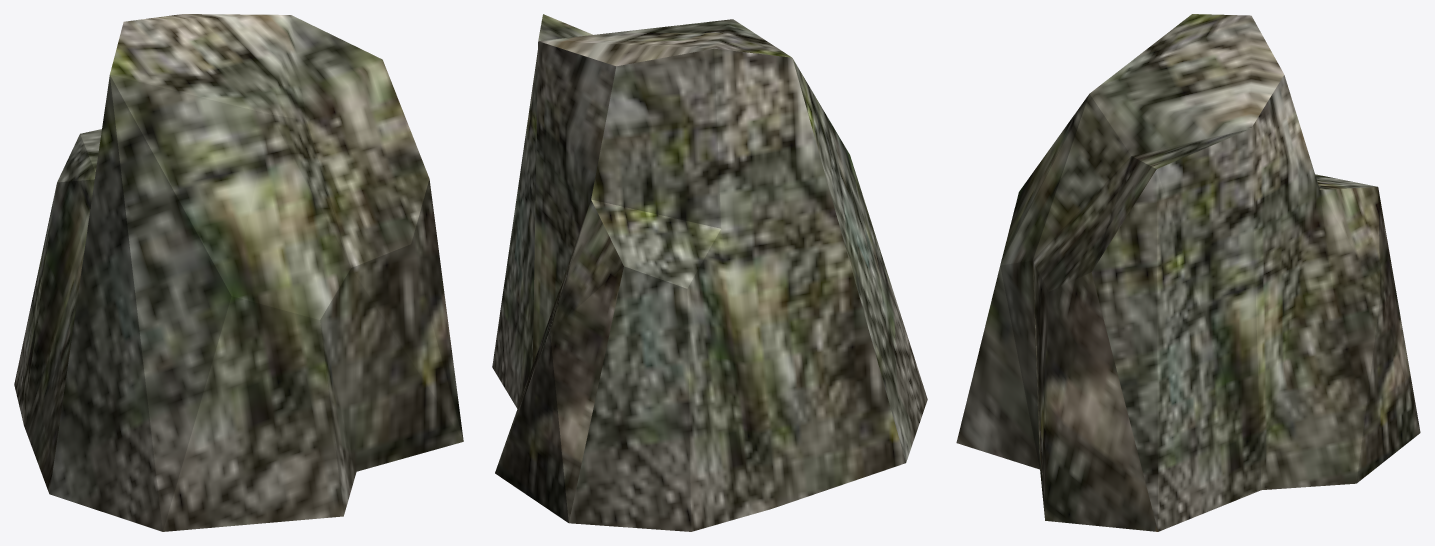
3 views of the same model, side by side, from view 1: azimuth 30°, elevation 25°; view 2: azimuth 150°, elevation 25°; view 3: azimuth 270°, elevation 25° (orthographic). The views are drawn at different scales.
Visible parts, largest first — view 1: a92; view 2: a92; view 3: a92.
Boxes of the visible parts, x1,y1,x2,y2 form: a92: (14,14,463,531); a92: (492,14,927,531); a92: (956,14,1420,531).
Size of the model in its own units: 602 by 597 by 638.
